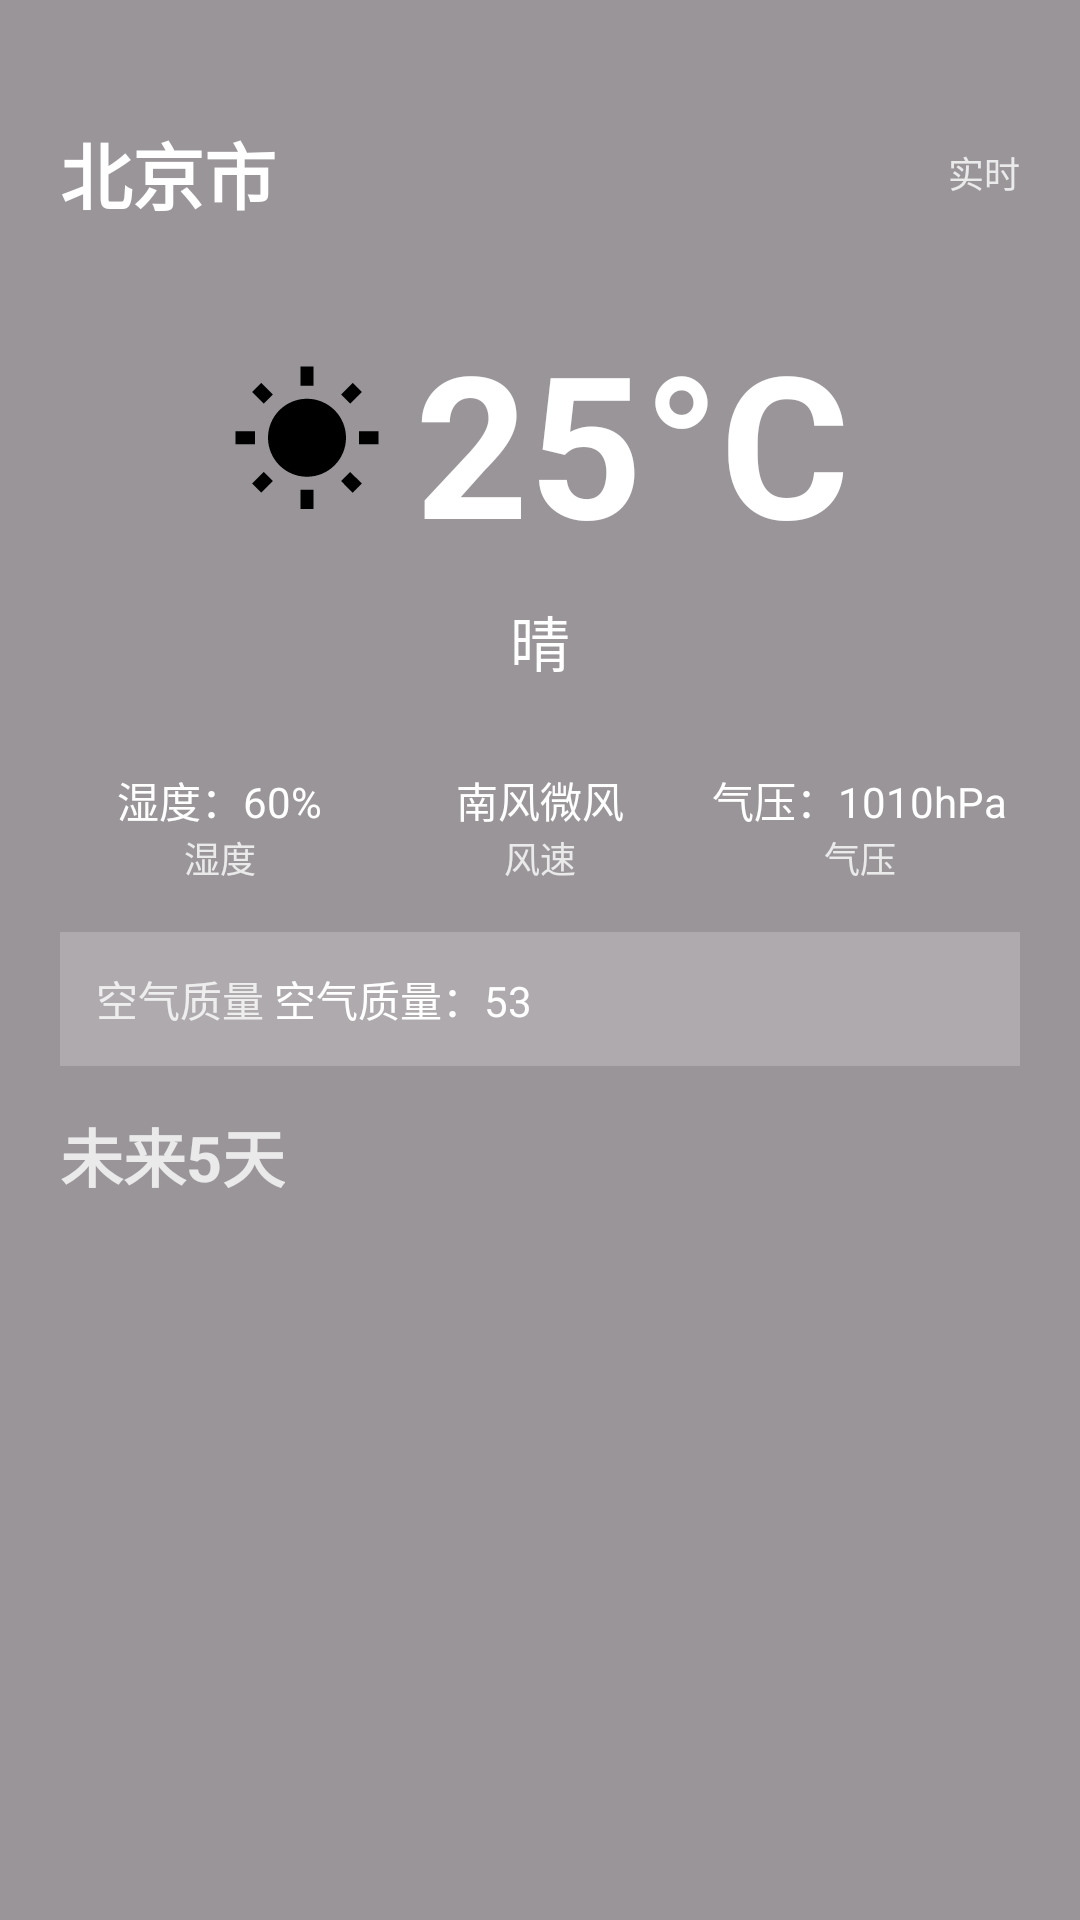

Named icons in this screenshot (1080 x 1920) and their centers, (x,y):
weather sunny: (307,437)
